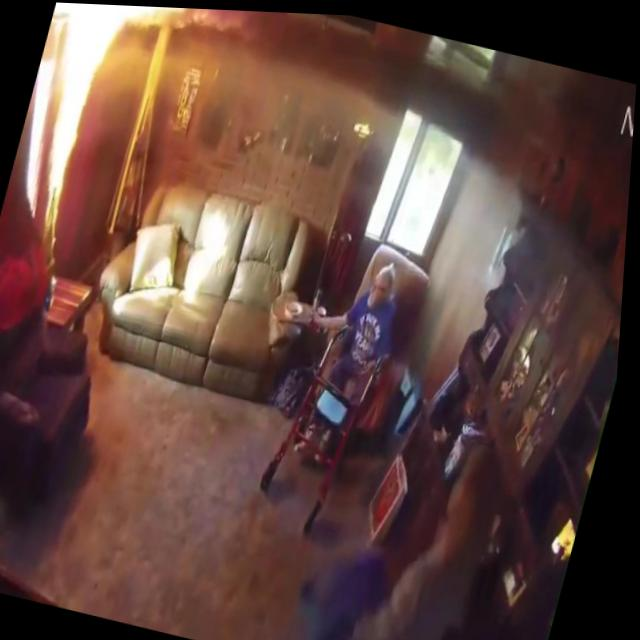fire: (8, 1, 120, 238), (54, 2, 207, 42)
